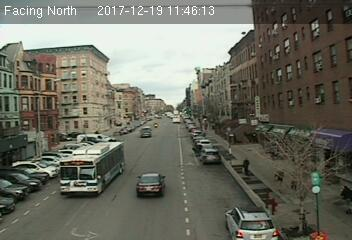bus: (56, 141, 127, 197)
car: (224, 204, 275, 240), (136, 172, 167, 196), (199, 150, 221, 163)
pedestrian: (241, 158, 251, 177)
